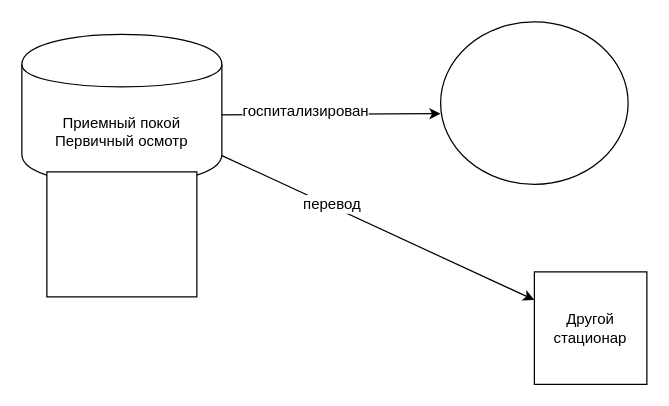
This 669x406 diagram has some shape labels left out. The centre of each missing label's shape, as x and y in pixels:
Документы к оформлению Ф № 001 у Ф № 002 у Протоколы осмотра: the point at 121,234
Отделение лечения: the point at 533,102
